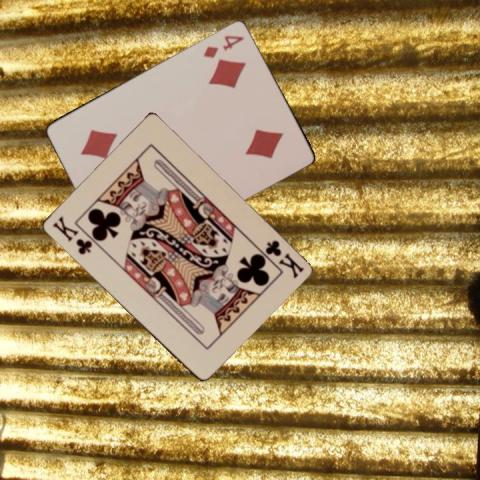4d: (200, 31, 245, 60)
Kc: (49, 213, 93, 256), (262, 237, 305, 280)
